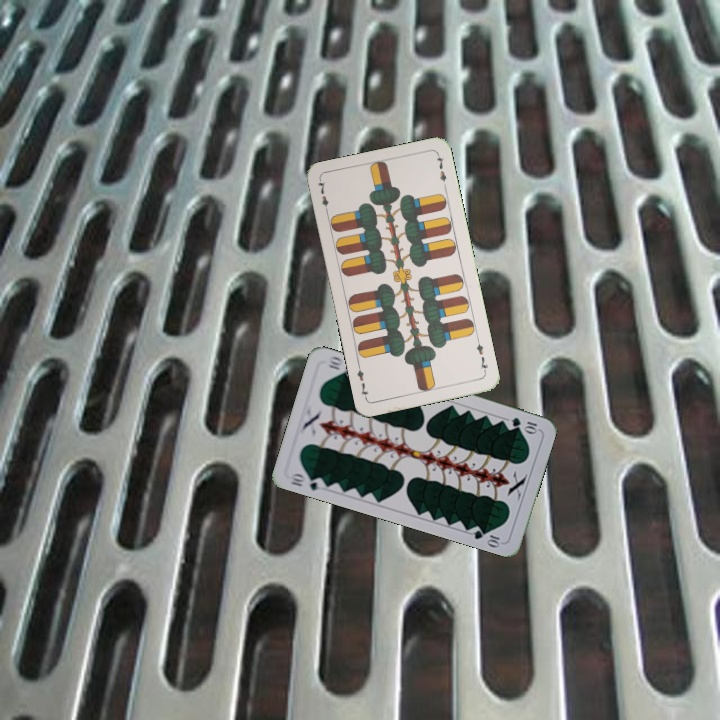E7: (472, 335, 490, 376), (314, 176, 331, 217)
G10: (286, 469, 327, 493), (508, 413, 541, 435)
